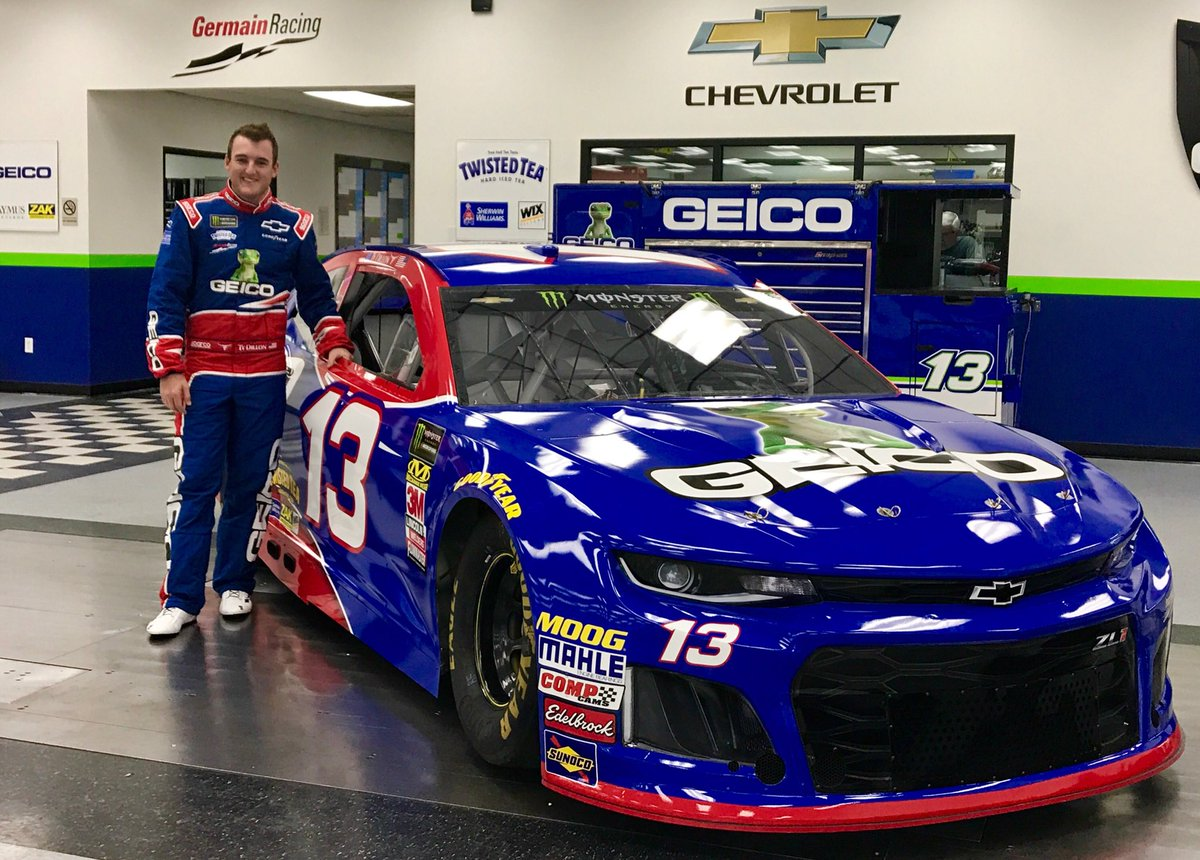geico: (663, 417, 1083, 511), (656, 186, 865, 234), (208, 270, 281, 298)
